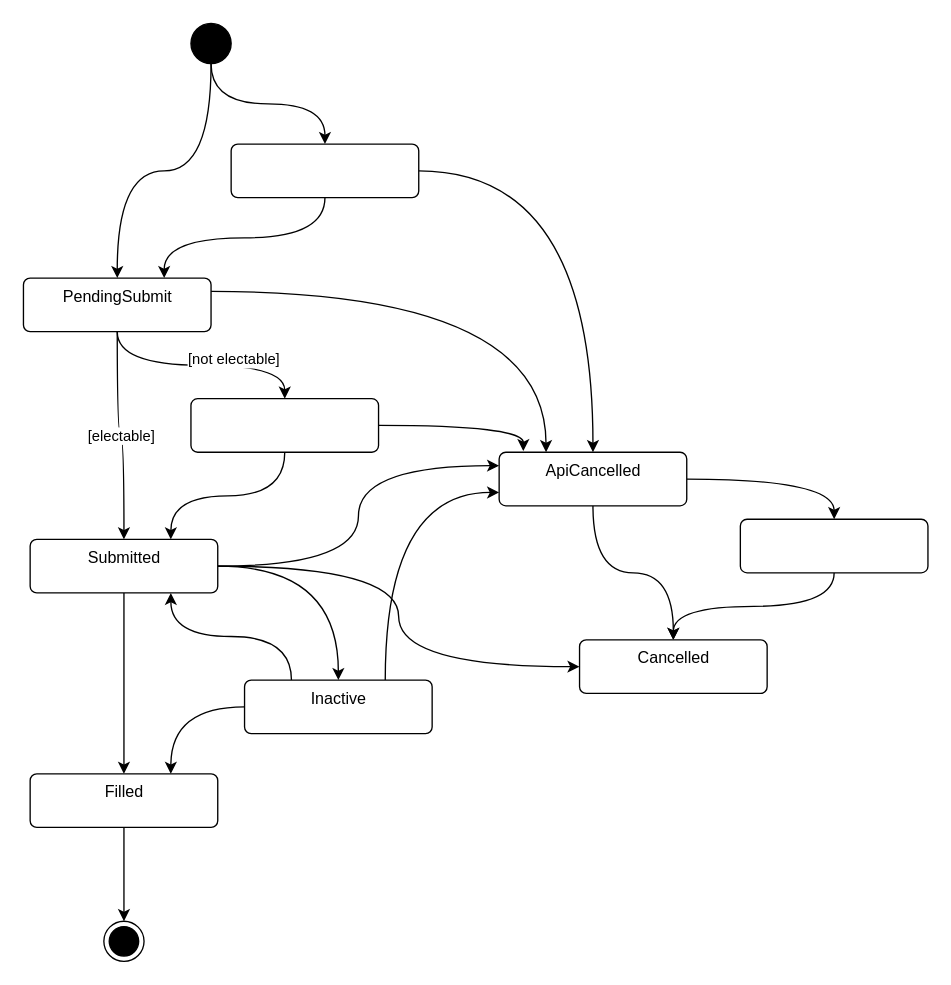
This 951x985 diagram has some shape labels left out. The shapes that lost their labels are listed below. From the top down, each one's centre as x and y in pixels, then its label:
the point at 324,170: ApiPending
the point at 284,424: PreSubmitted
the point at 833,545: PendingCancel
